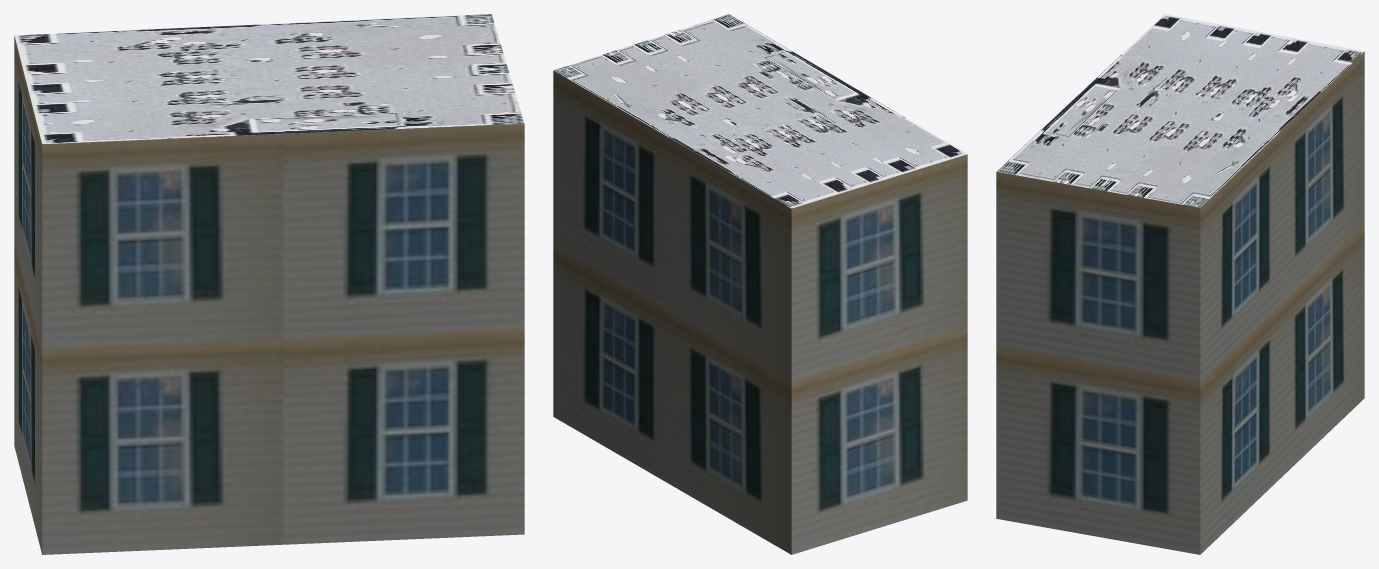
Rendered from ResTex__5017.fbx.
The picture shows the model from 3 angles, left to right: view 1: azimuth 30°, elevation 25°; view 2: azimuth 150°, elevation 25°; view 3: azimuth 270°, elevation 25°; orthographic projection. The views are drawn at different scales.
Parts seen in each view (by area): view 1: CityEngineMaterial_7_m, CityEngineMaterial_4_m; view 2: CityEngineMaterial_7_m, CityEngineMaterial_4_m; view 3: CityEngineMaterial_7_m, CityEngineMaterial_4_m.
Boxes of the visible parts, box(x1,y1,x2,y2) form: CityEngineMaterial_7_m: box(14, 36, 524, 554); CityEngineMaterial_4_m: box(14, 14, 524, 144); CityEngineMaterial_7_m: box(553, 70, 967, 554); CityEngineMaterial_4_m: box(553, 14, 967, 208); CityEngineMaterial_7_m: box(996, 51, 1364, 554); CityEngineMaterial_4_m: box(996, 14, 1363, 207).
Bounding box in the file's own units: 7.19 × 6 × 5.77.
Materials: 2 (2 with a texture image).
